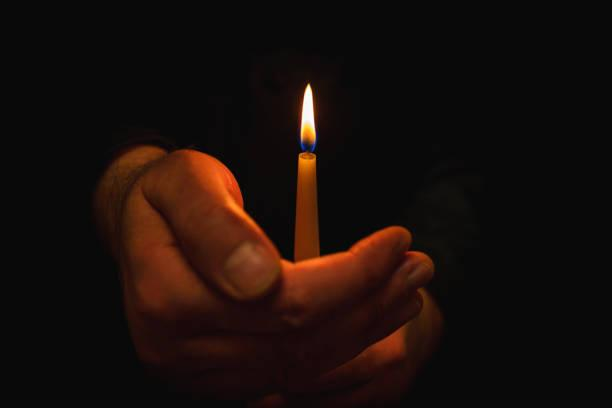Fire: (293, 69, 322, 155)
